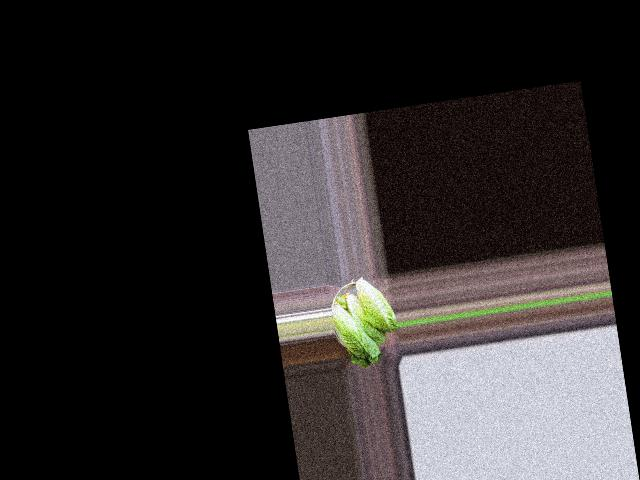lettuce: (329, 291, 383, 368)
